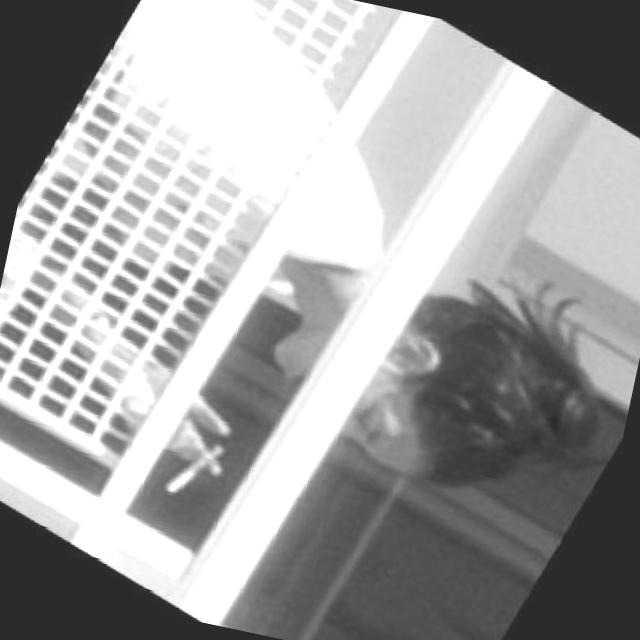cigarette: (156, 422, 230, 510)
